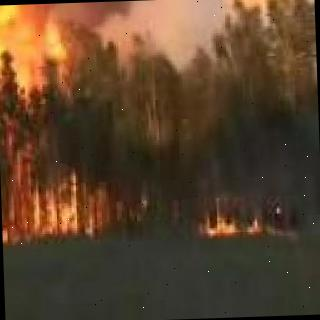fire: (0, 119, 120, 237), (0, 3, 75, 93), (190, 196, 272, 238)
